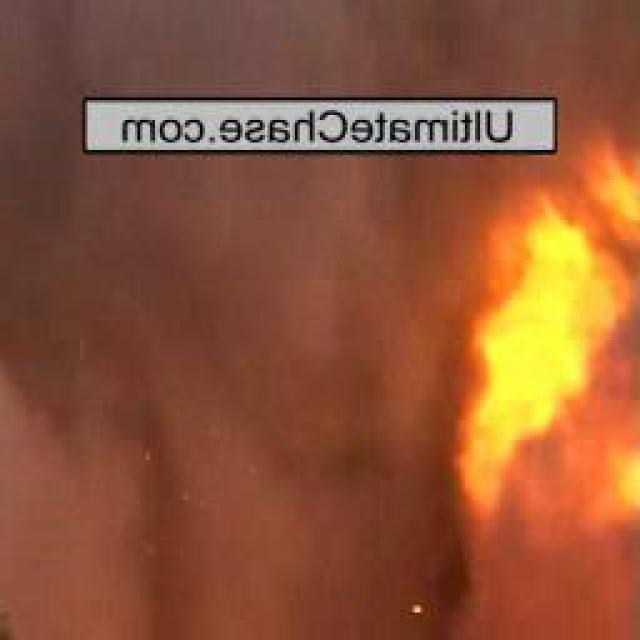Fire: (448, 88, 640, 593)
